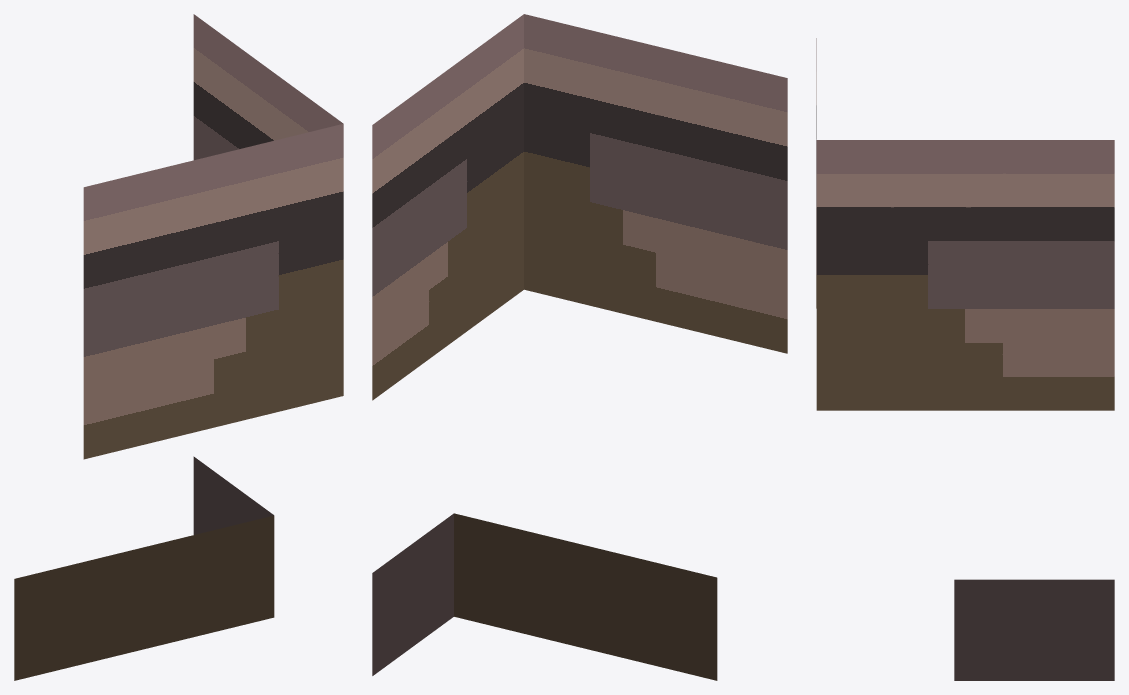
3 renders of one model, left to right at view 1: azimuth 30°, elevation 25°; view 2: azimuth 150°, elevation 25°; view 3: azimuth 270°, elevation 25°, orthographic.
Size of the model in its own units: 0.5 by 1 by 0.4995.
Materials: 1 (1 with a texture image).
